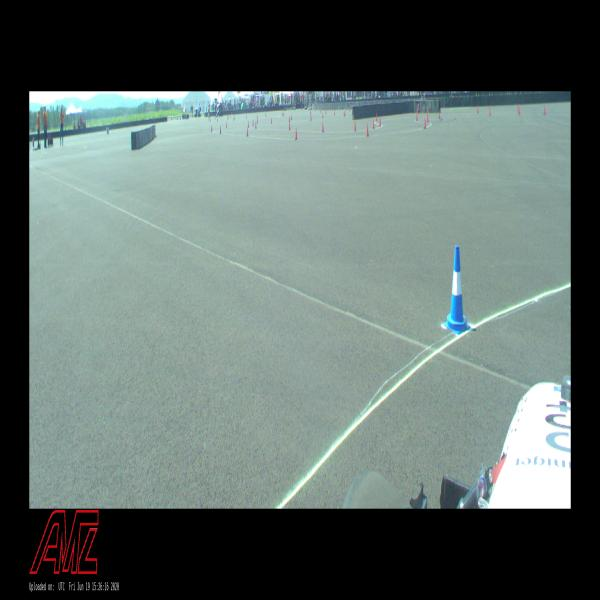blue_cone: (444, 246, 470, 334)
unknown_cone: (426, 109, 429, 123), (366, 124, 369, 136), (423, 117, 426, 129), (372, 118, 375, 129), (246, 126, 249, 137), (378, 117, 381, 127), (438, 109, 441, 119), (543, 105, 546, 115), (375, 112, 378, 121), (415, 112, 418, 121), (219, 125, 222, 134), (295, 127, 297, 140), (354, 120, 356, 132), (288, 122, 291, 130), (488, 107, 491, 115), (322, 122, 324, 132), (476, 105, 478, 114), (518, 105, 520, 114), (270, 116, 272, 124), (211, 124, 213, 132), (252, 118, 254, 126), (310, 114, 312, 120), (322, 112, 324, 118), (343, 110, 345, 116), (288, 115, 290, 120), (255, 121, 256, 129), (226, 121, 227, 128), (291, 114, 292, 120), (265, 112, 266, 118), (334, 110, 335, 115), (283, 112, 284, 117)
